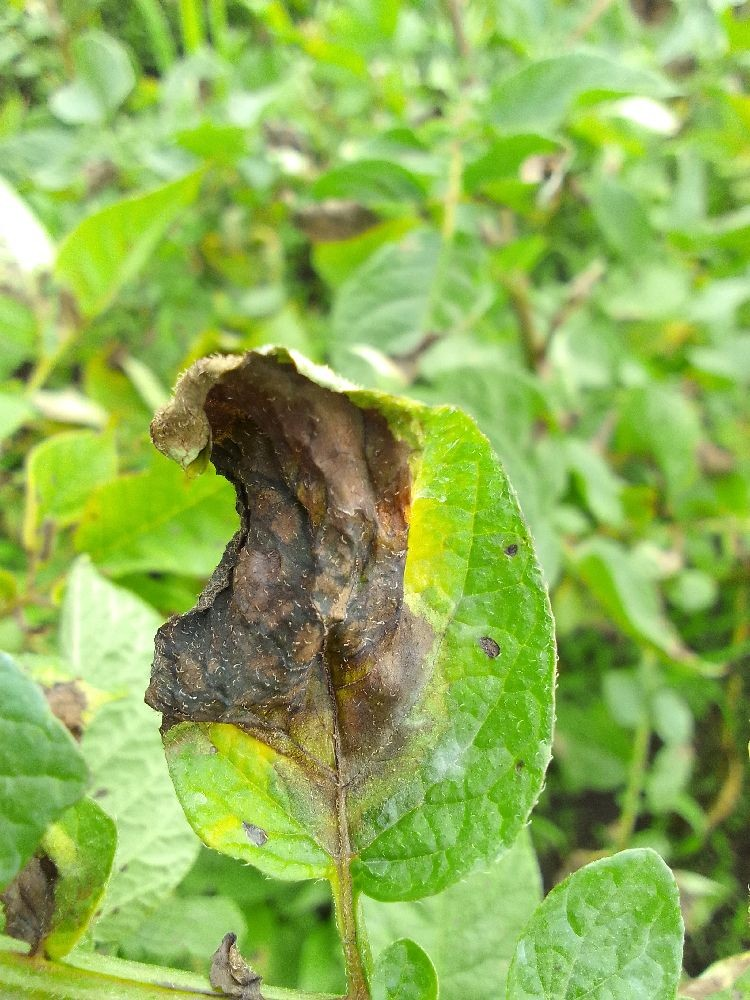late_blight: (127, 333, 451, 907), (633, 667, 750, 1000), (524, 775, 633, 905), (0, 833, 76, 982)
